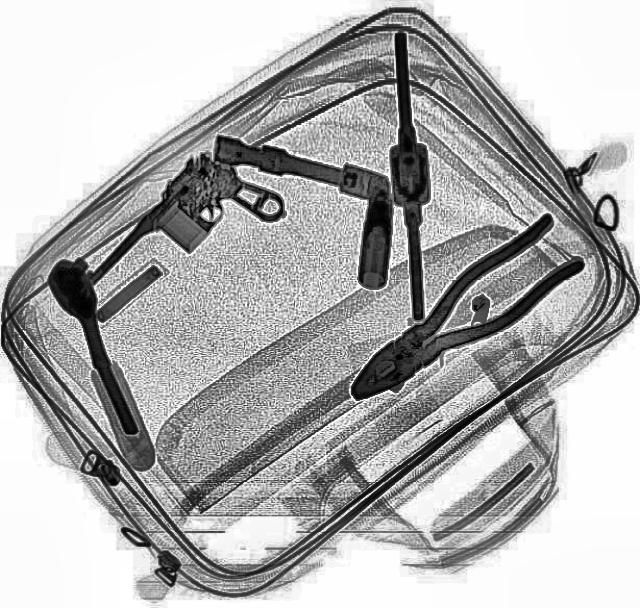Gun: (76, 141, 290, 337)
Pliers: (306, 190, 618, 444)
